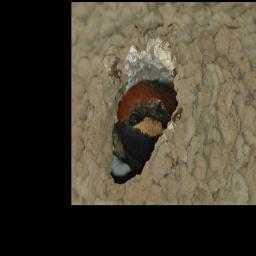Swallow: (116, 79, 178, 173)
